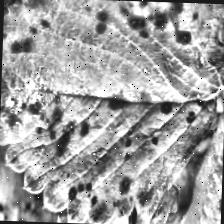Leaf Spot: (0, 0, 224, 224), (165, 100, 224, 224), (0, 68, 29, 205)
